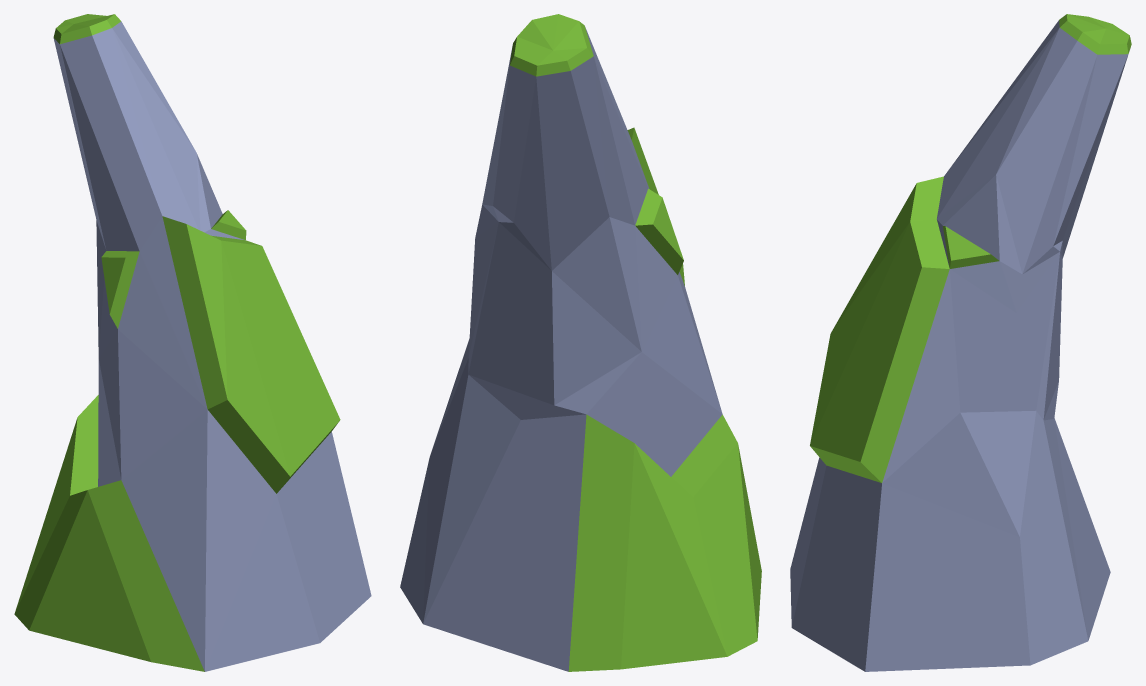
Rendered from Rock_28_1.fbx.
3 views of the same model, side by side, from view 1: azimuth 30°, elevation 25°; view 2: azimuth 150°, elevation 25°; view 3: azimuth 270°, elevation 25° (orthographic). The views are drawn at different scales.
Parts seen in each view (by area): view 1: Rock_28_1; view 2: Rock_28_1; view 3: Rock_28_1.
Boxes of the visible parts, x1,y1,x2,y2 form: Rock_28_1: [14, 14, 371, 671]; Rock_28_1: [400, 14, 761, 671]; Rock_28_1: [790, 14, 1131, 671].
Size of the model in its own units: 3.55 by 6.34 by 3.46.
